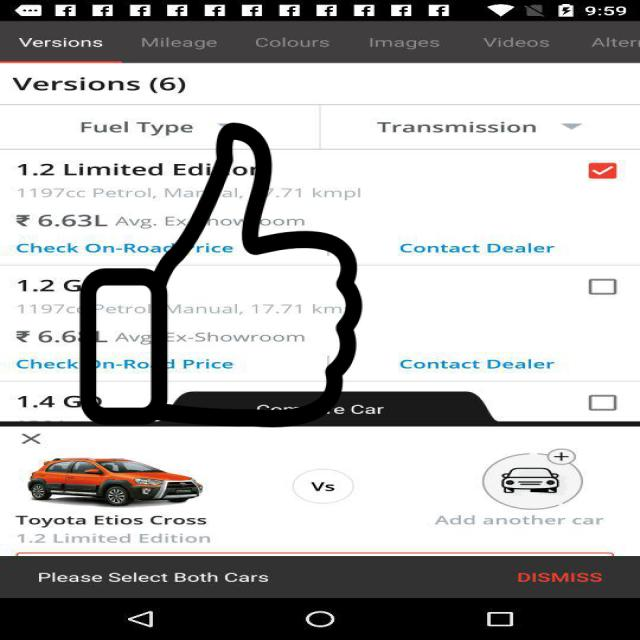privacy zuckering: (76, 123, 366, 427)
